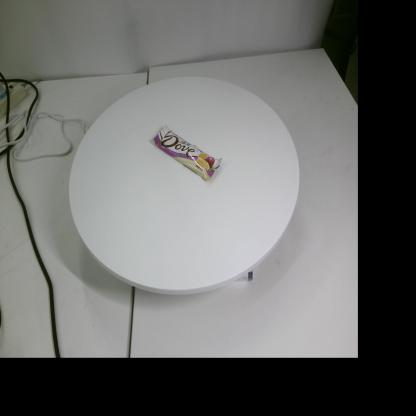Chocolate: (153, 125, 222, 181)
